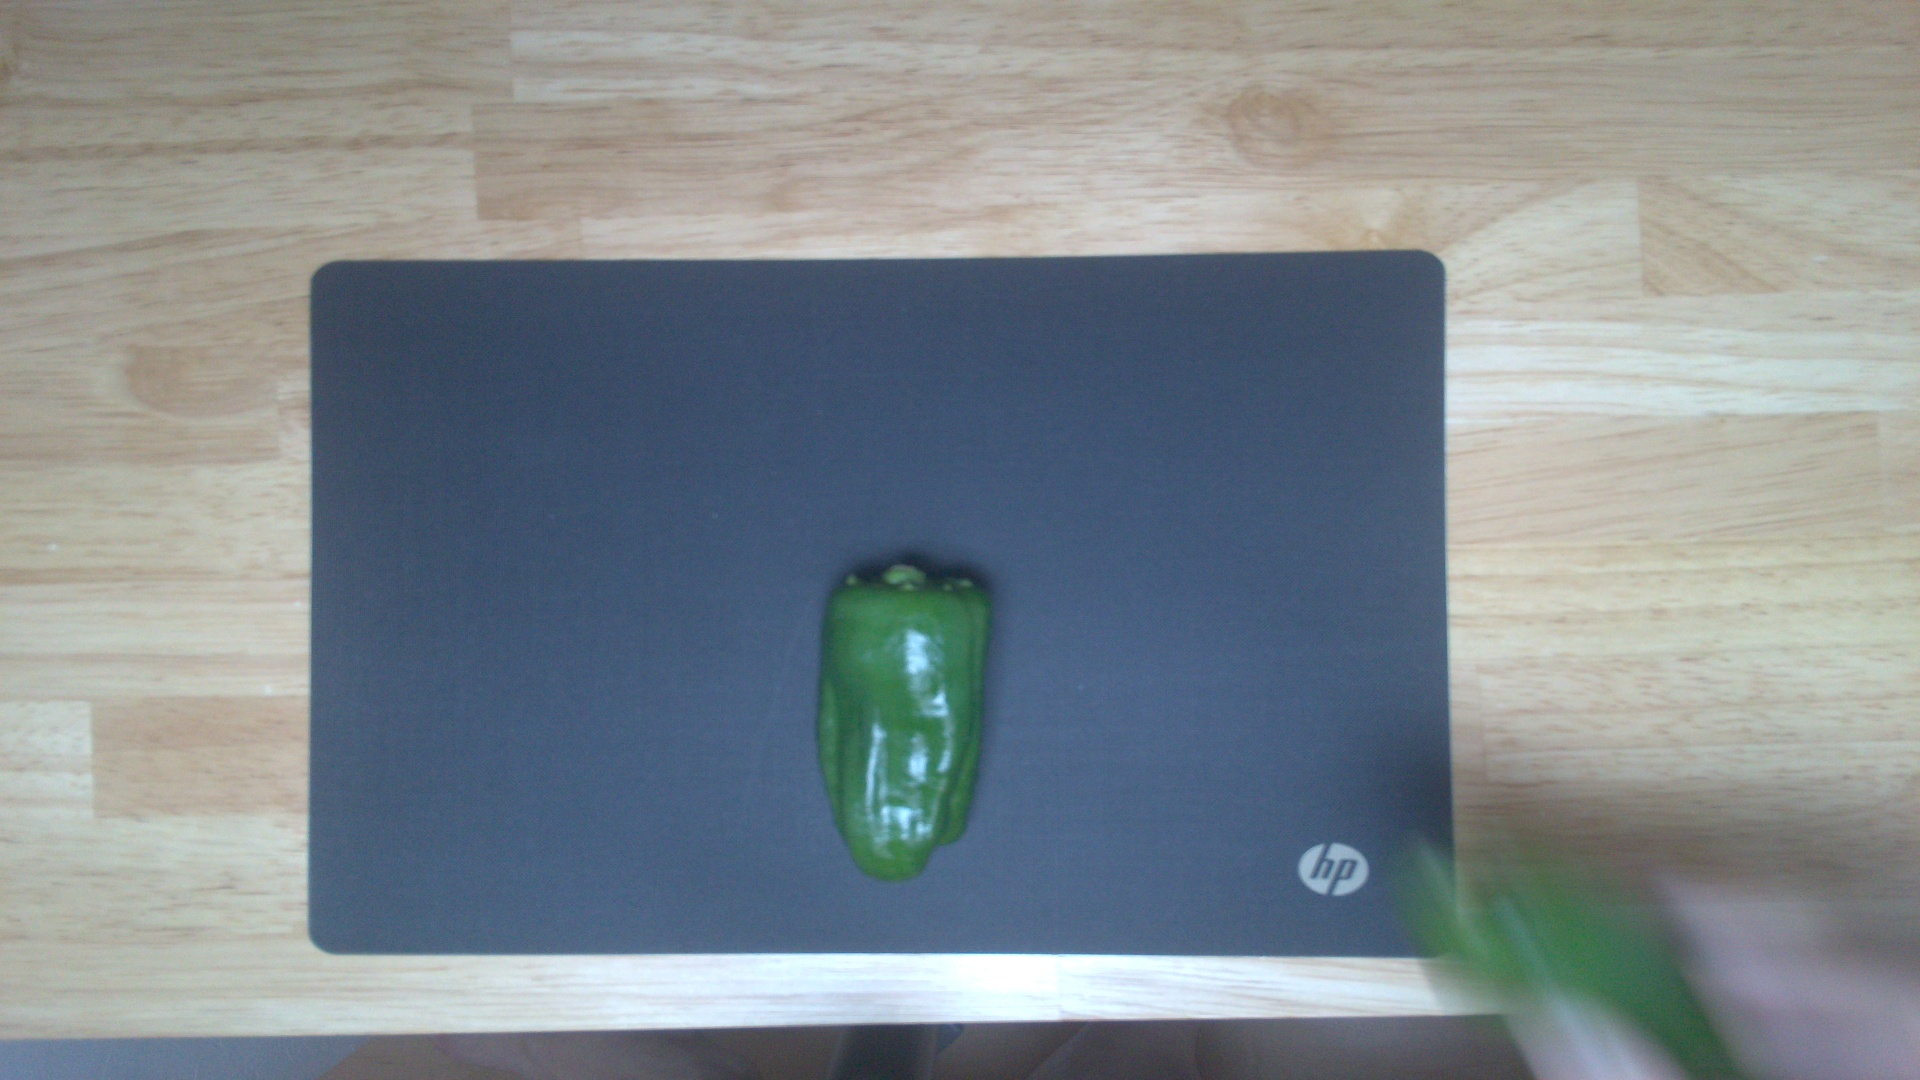Piman: (814, 554, 996, 889)
